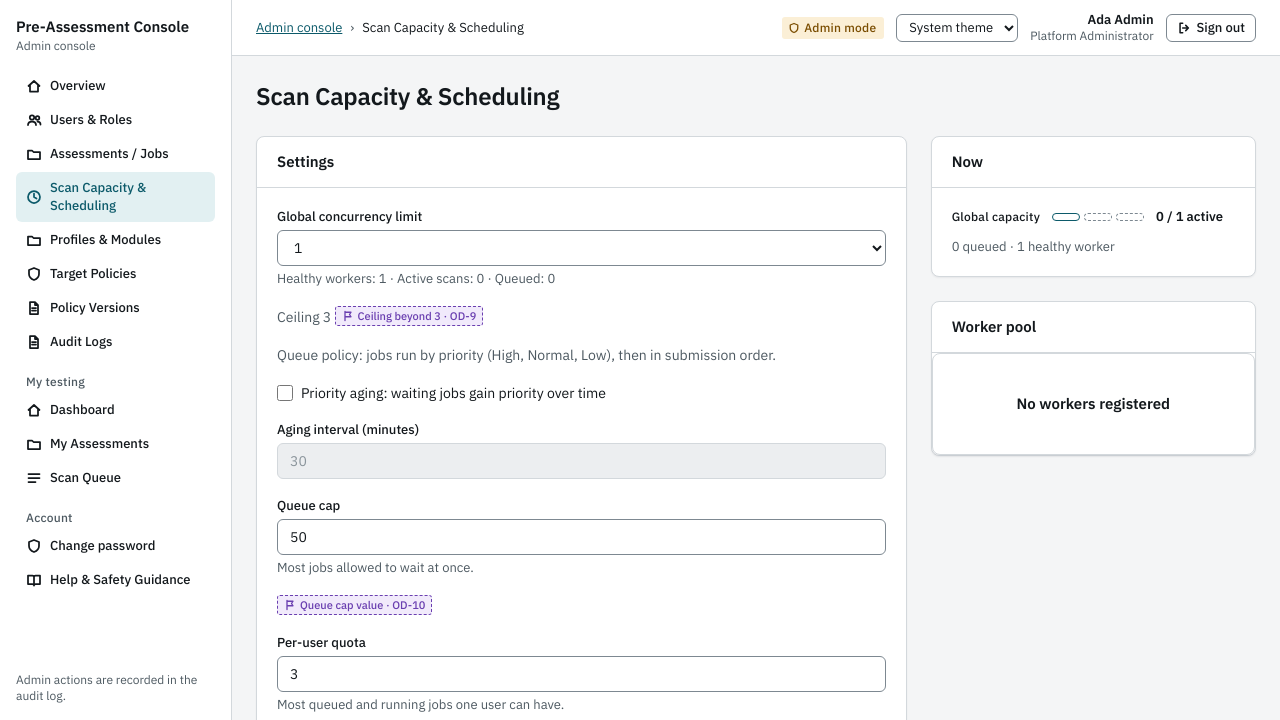
Test case: capacity: raising the limit above healthy workers shows the copy inline and opens no confirm
Step 1. Select "2" in the dropdown labelled "Global concurrency limit" → (581, 248), box [277, 230, 886, 266]
(page scrolled)
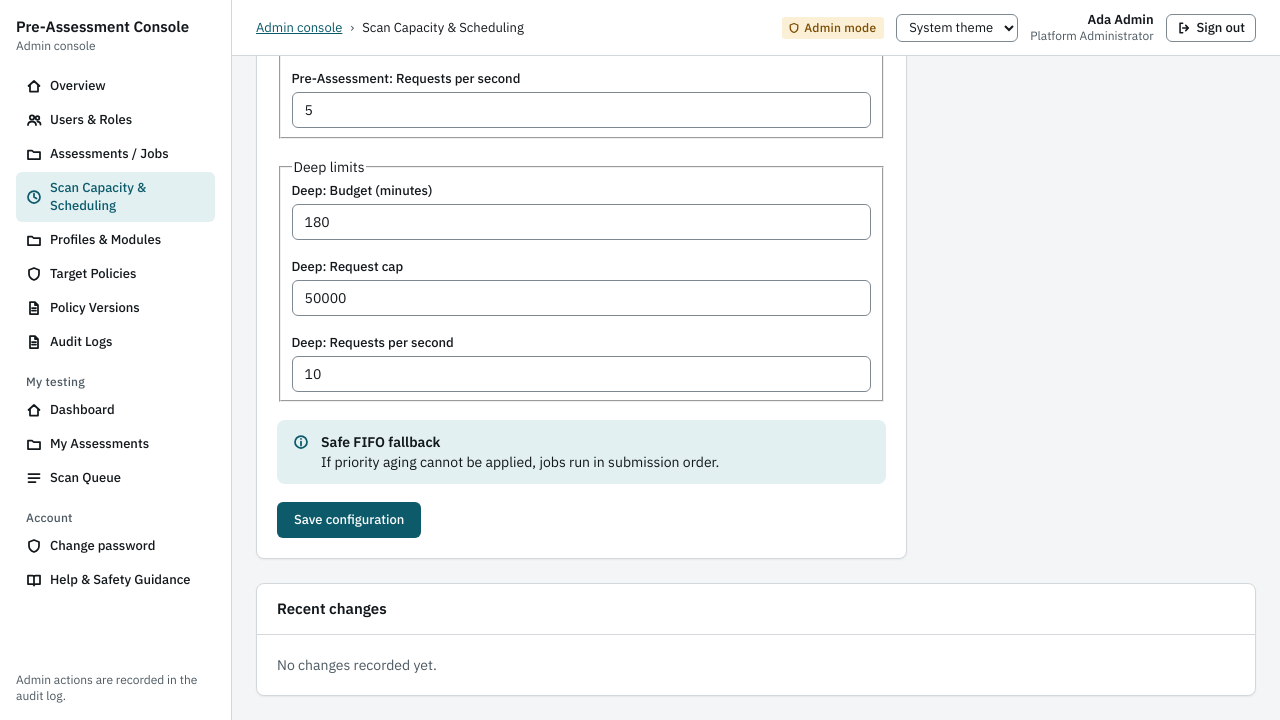
Step 2. Click the button "Save configuration" → (349, 520), box [277, 502, 421, 538]
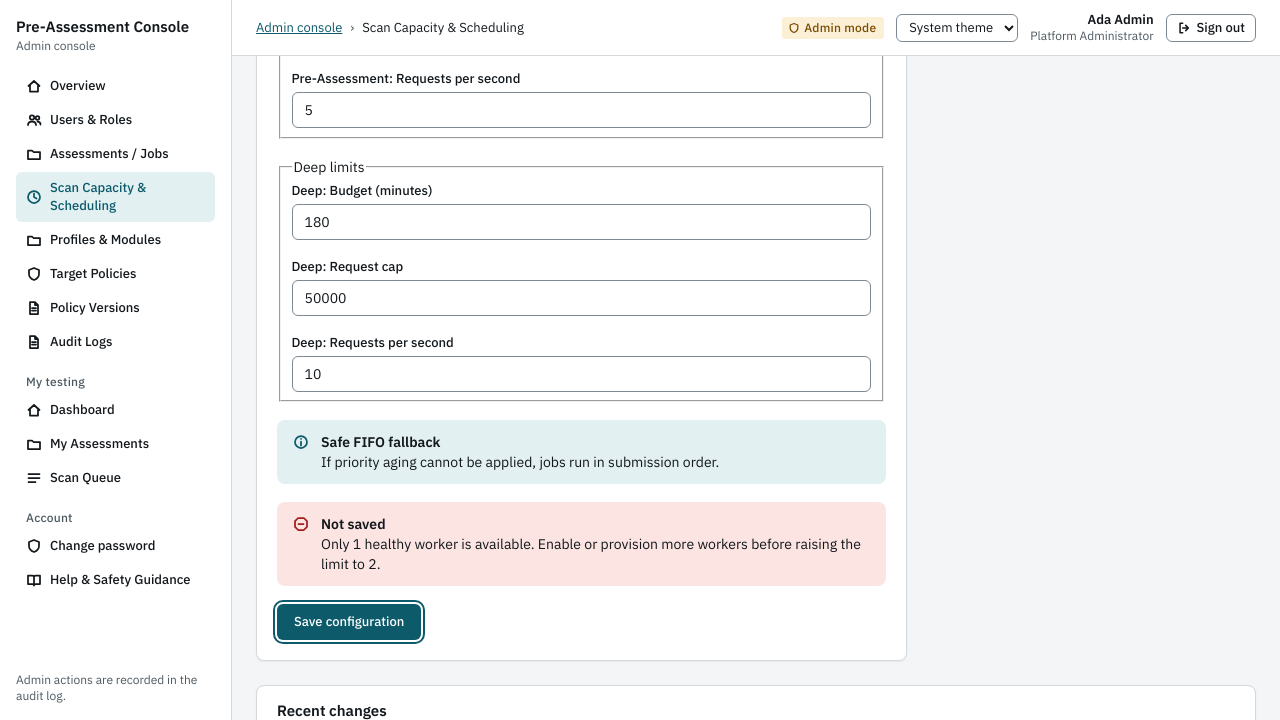
Expected: the text "Only 1 healthy worker is available. Enable or provision more workers before raising the limit to 2." is shown, [321, 535, 861, 573]
